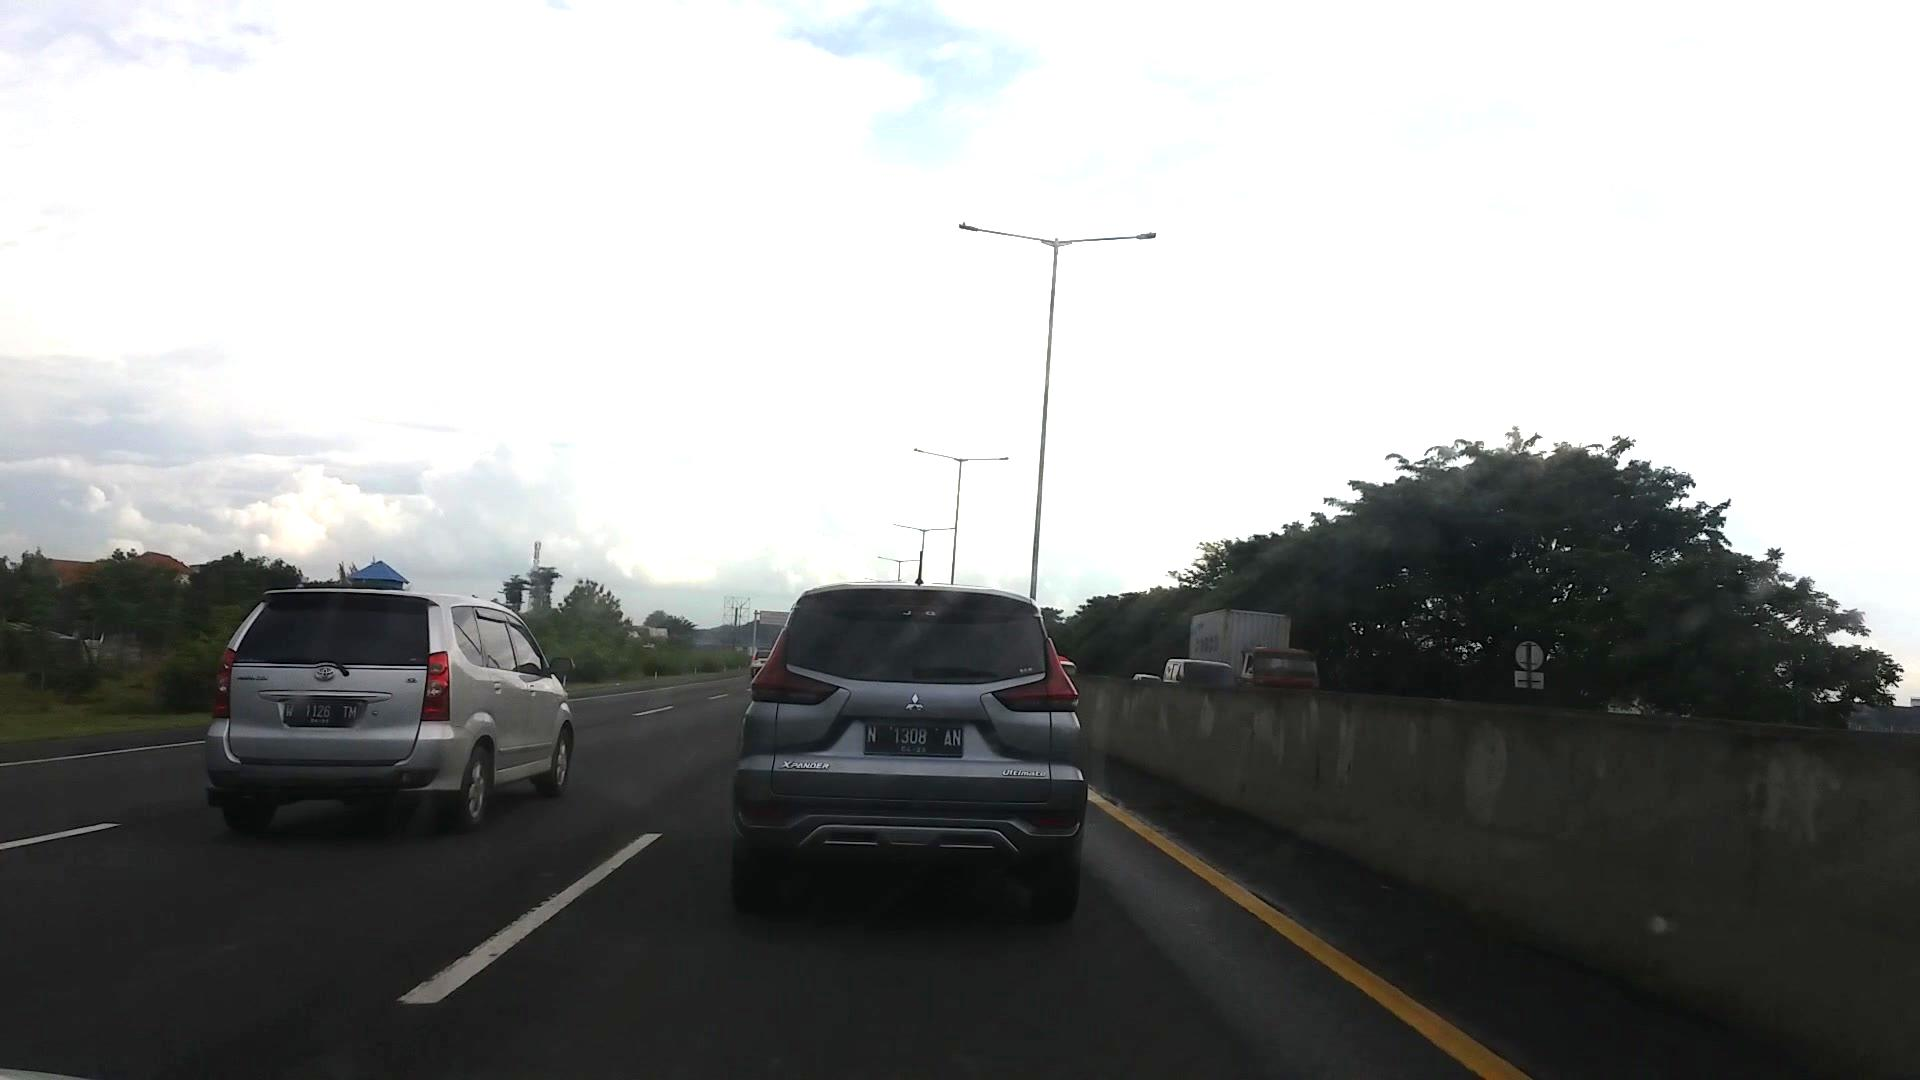plate_positive: (864, 723, 963, 757), (284, 702, 357, 728)
